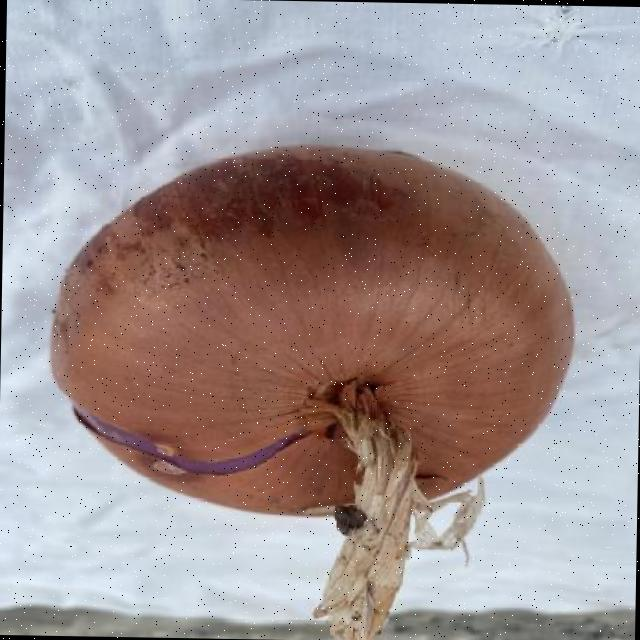Onion: (48, 145, 572, 640)
